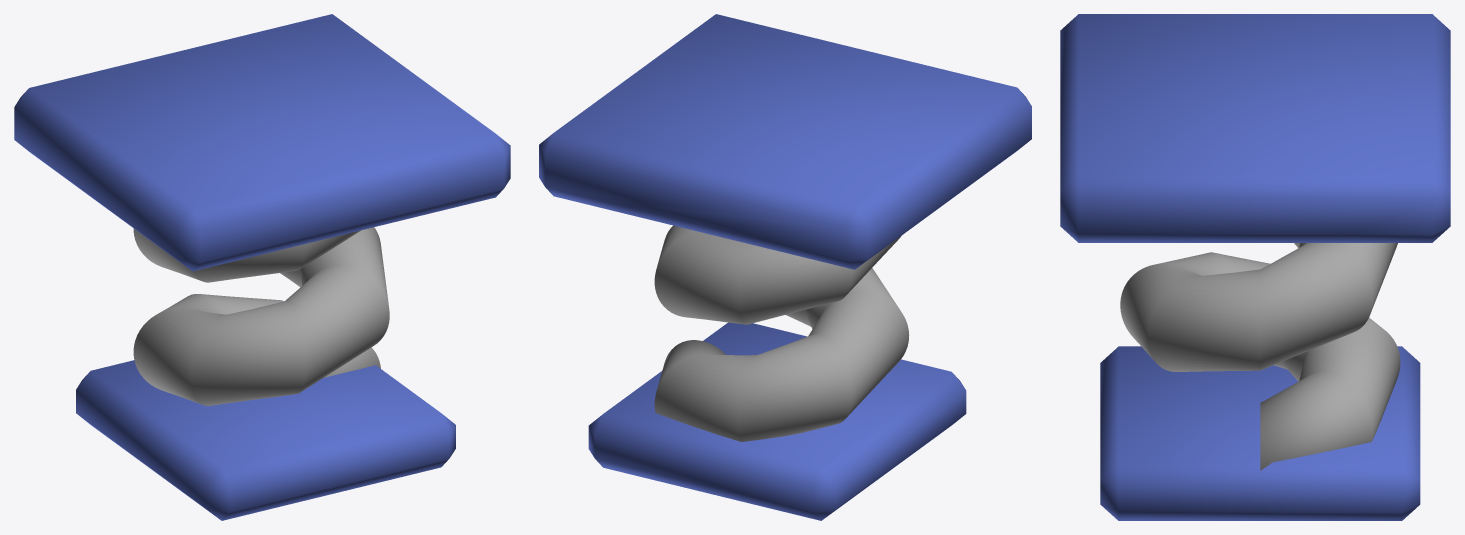
File: SpringPlatform.glb
3 renders of one model, left to right at view 1: azimuth 30°, elevation 25°; view 2: azimuth 150°, elevation 25°; view 3: azimuth 270°, elevation 25°, orthographic. The views are drawn at different scales.
Parts seen in each view (by area): view 1: Spring, Platform; view 2: Spring, Platform; view 3: Spring, Platform.
Part boxes in pixels (bbox=[...]): Spring: bbox=[14, 14, 510, 405]; Platform: bbox=[76, 360, 455, 520]; Spring: bbox=[539, 14, 1031, 441]; Platform: bbox=[588, 322, 966, 520]; Spring: bbox=[1060, 14, 1450, 470]; Platform: bbox=[1100, 346, 1420, 520].
Bounding box in the file's own units: 2.27 × 2.21 × 2.13.
